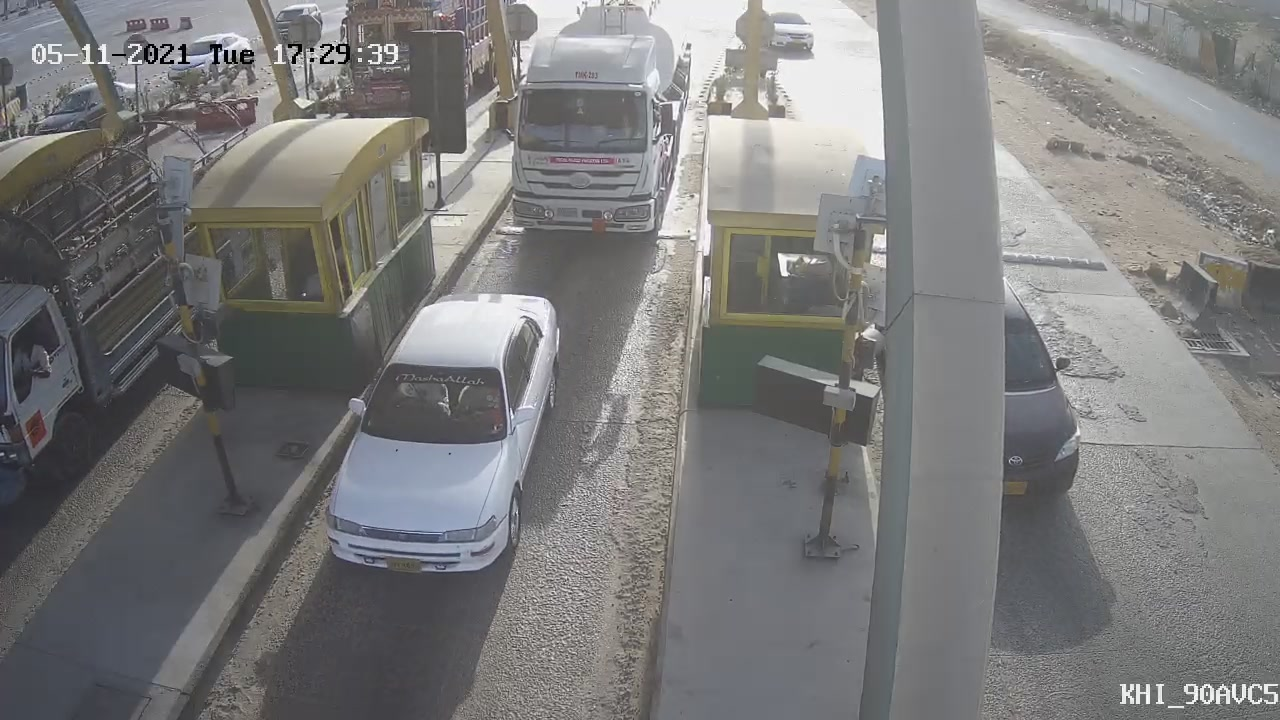F1: (301, 277, 585, 599)
F6: (502, 1, 702, 261)
